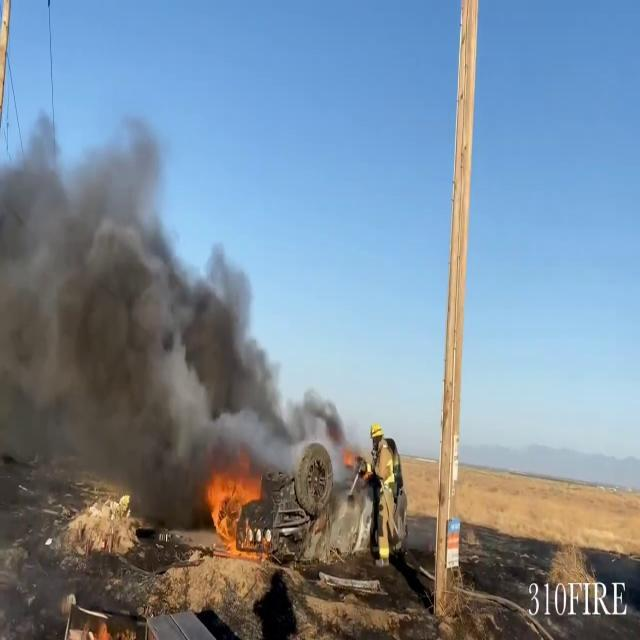Fire: (202, 462, 268, 556)
Smoke: (0, 98, 333, 530)
